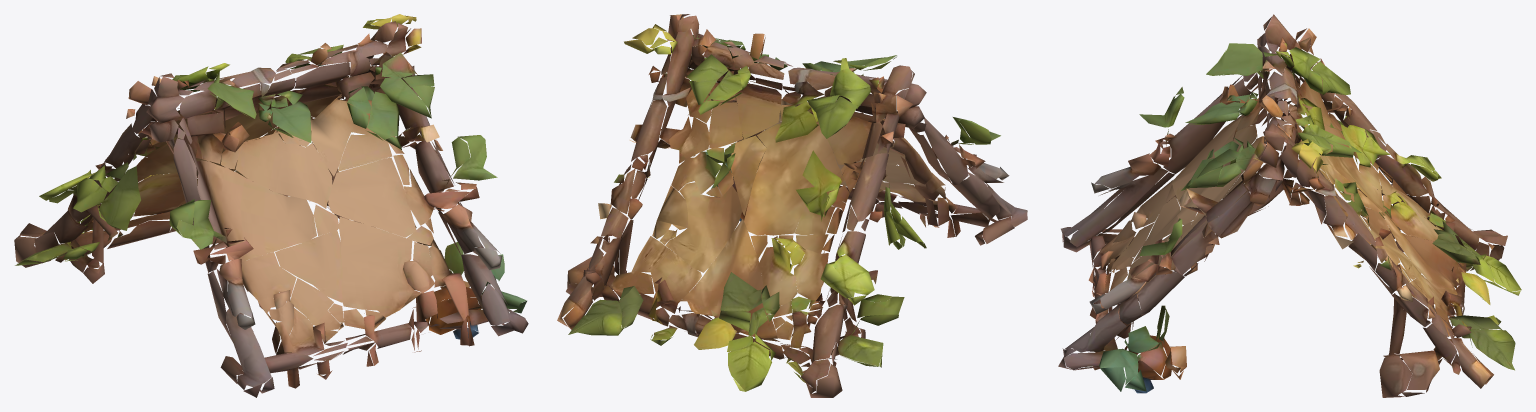
Rendered from abrigo.glb.
3 views of the same model, side by side, from view 1: azimuth 30°, elevation 25°; view 2: azimuth 150°, elevation 25°; view 3: azimuth 270°, elevation 25° (orthographic). The views are drawn at different scales.
Visible parts, largest first — view 1: tripo_node_6846a23a-63d9-4e16-bd0f-54231faf4858; view 2: tripo_node_6846a23a-63d9-4e16-bd0f-54231faf4858; view 3: tripo_node_6846a23a-63d9-4e16-bd0f-54231faf4858.
Part boxes in pixels (bbox=[...]): tripo_node_6846a23a-63d9-4e16-bd0f-54231faf4858: bbox=[14, 14, 528, 397]; tripo_node_6846a23a-63d9-4e16-bd0f-54231faf4858: bbox=[557, 14, 1027, 397]; tripo_node_6846a23a-63d9-4e16-bd0f-54231faf4858: bbox=[1058, 14, 1521, 397].
Bounding box in the file's own units: 0.8284 × 0.6275 × 0.9964.
1 material, 1 textured.
